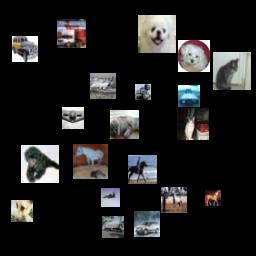airplane: (90, 73, 116, 99), (62, 107, 84, 129), (101, 188, 120, 207)
automobile: (134, 211, 160, 237), (12, 36, 38, 62)
cat: (213, 52, 251, 90), (177, 108, 209, 140), (110, 110, 139, 139)
dog: (21, 145, 59, 183), (138, 15, 176, 53), (178, 40, 210, 72), (11, 200, 33, 222)
truck: (57, 19, 86, 48), (102, 216, 124, 238), (178, 85, 200, 107), (135, 84, 151, 100)
